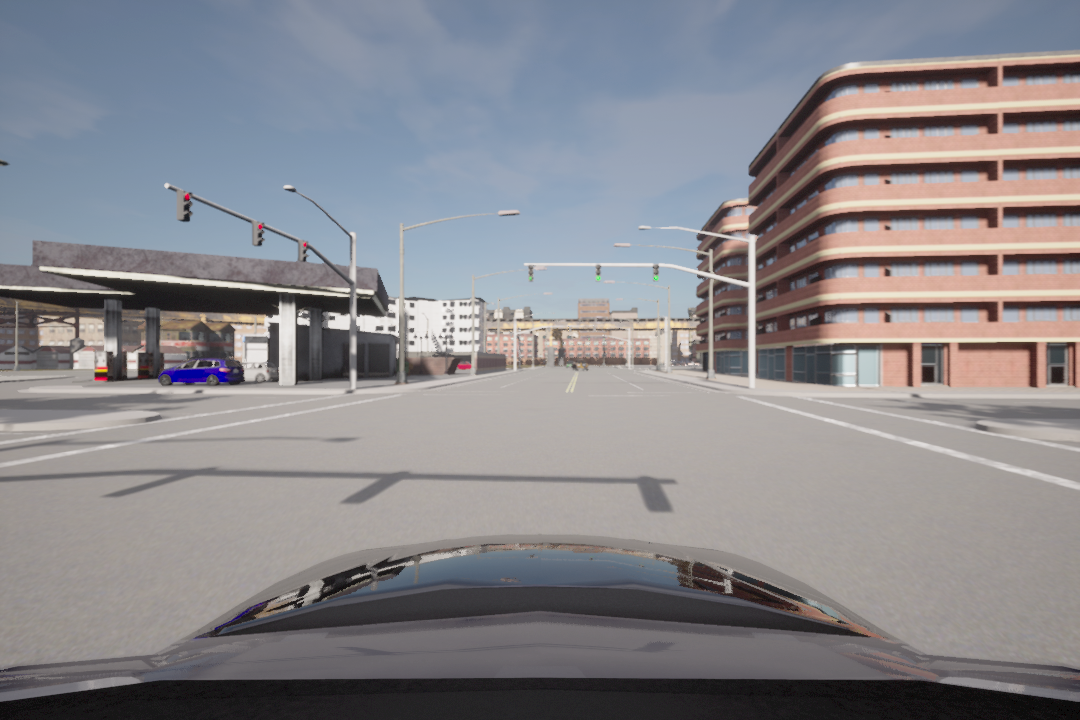TrafficLight: (248, 215, 267, 250), (177, 188, 194, 226), (294, 236, 311, 266), (592, 262, 607, 284), (525, 264, 535, 284), (653, 263, 661, 285)
